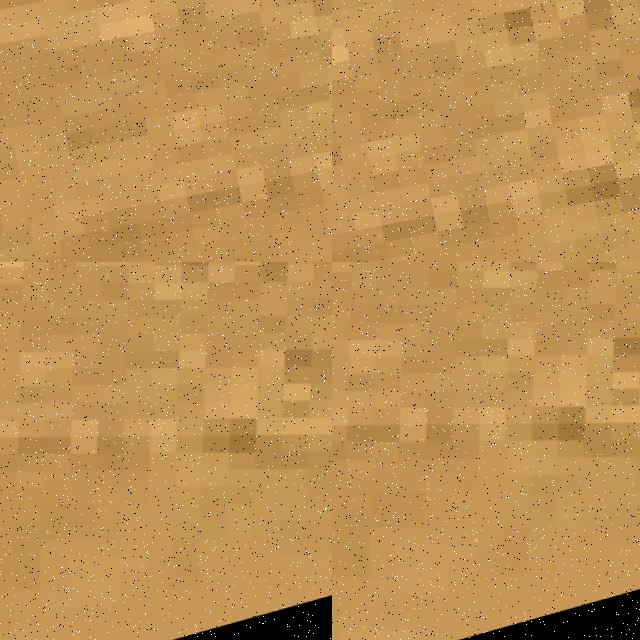drone: (0, 262, 332, 640), (332, 262, 640, 640)
